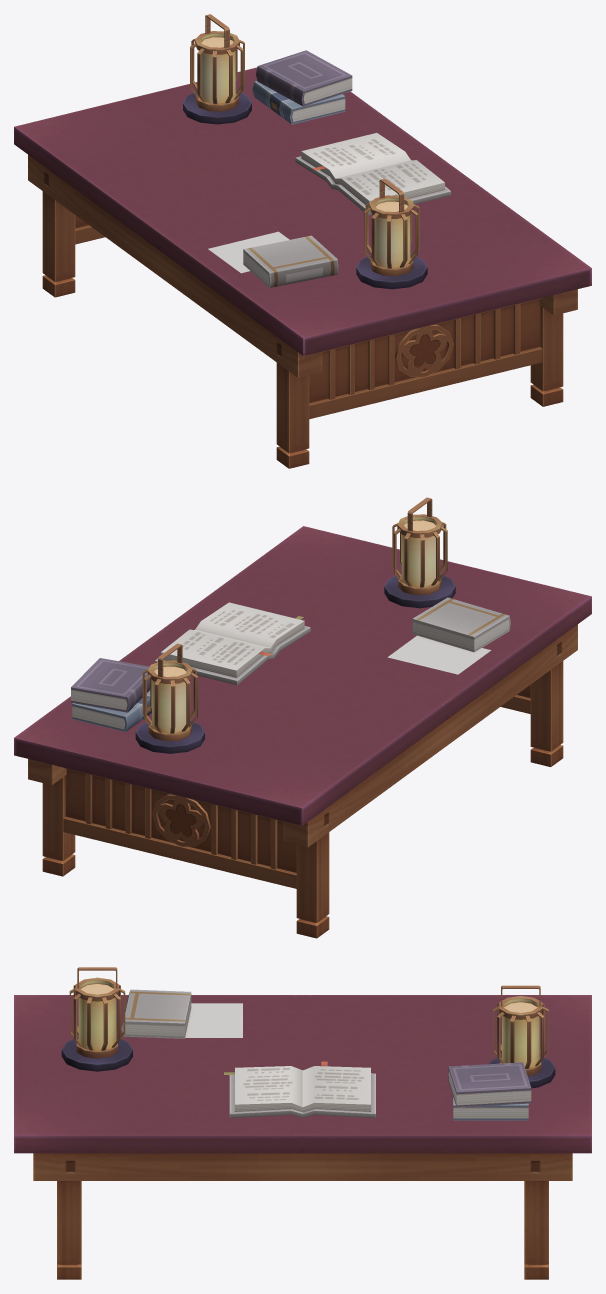
File: my_hyakkiyako_01_desk_03.glb
3 renders of one model, top to bottom at view 1: azimuth 30°, elevation 25°; view 2: azimuth 150°, elevation 25°; view 3: azimuth 270°, elevation 25°, orthographic.
Parts seen in each view (by area): view 1: my_hyakkiyako_01_desk_03; view 2: my_hyakkiyako_01_desk_03; view 3: my_hyakkiyako_01_desk_03.
Boxes of the visible parts, <box> form: my_hyakkiyako_01_desk_03: <box>14,14,591,468</box>; my_hyakkiyako_01_desk_03: <box>14,497,591,938</box>; my_hyakkiyako_01_desk_03: <box>14,967,591,1279</box>.
Size of the model in its own units: 0.00846 by 0.00667 by 0.0147.
Materials: 2 (2 with a texture image).
